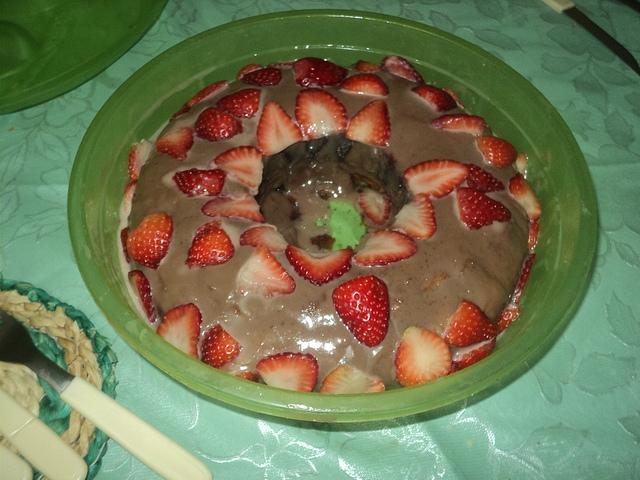strawberry: (332, 276, 390, 346), (394, 325, 454, 387), (237, 245, 296, 297), (286, 244, 354, 286), (208, 146, 264, 196), (294, 88, 348, 139), (403, 159, 471, 199), (444, 299, 499, 348), (256, 101, 303, 157), (184, 220, 236, 270), (127, 213, 173, 269), (156, 303, 202, 359), (256, 352, 319, 392), (169, 80, 228, 122), (456, 186, 512, 230), (389, 192, 437, 240), (354, 230, 417, 266), (346, 100, 391, 148), (200, 322, 243, 370), (200, 193, 266, 223), (320, 365, 384, 394), (293, 56, 350, 88), (172, 168, 230, 198), (508, 171, 542, 220), (128, 270, 157, 324), (196, 108, 243, 140), (452, 336, 496, 369), (214, 88, 262, 118), (157, 127, 196, 161), (411, 84, 458, 112), (476, 136, 517, 168), (510, 255, 536, 304), (240, 226, 288, 252), (432, 114, 486, 137), (358, 188, 391, 225), (382, 56, 425, 84), (466, 164, 506, 194), (337, 74, 390, 96), (128, 138, 152, 181), (495, 301, 523, 334), (242, 68, 282, 87), (236, 63, 264, 81), (123, 180, 136, 214), (356, 59, 382, 72), (235, 372, 259, 382), (267, 62, 295, 70)
